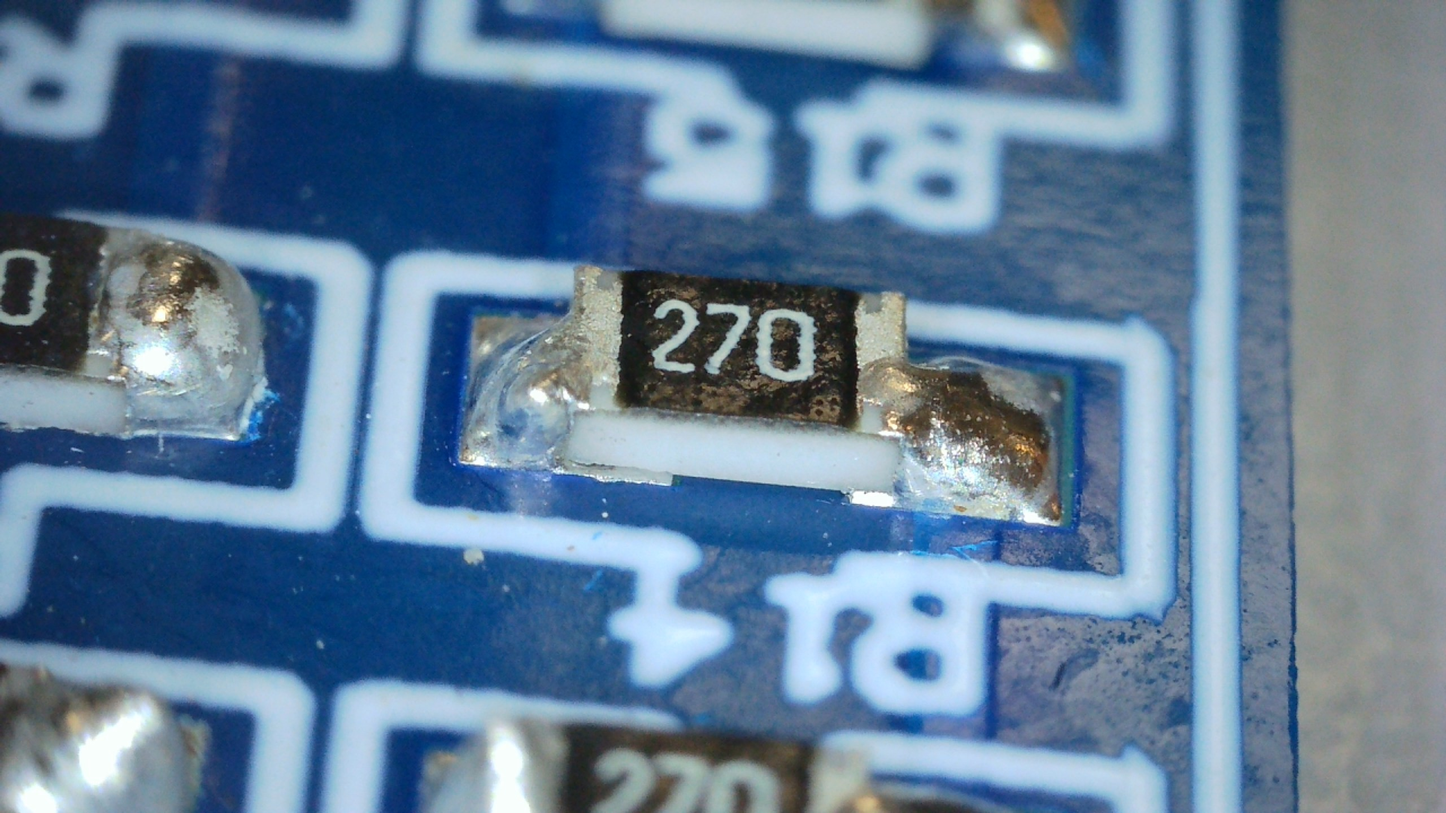NG: (858, 291, 1060, 522), (466, 268, 618, 467)
